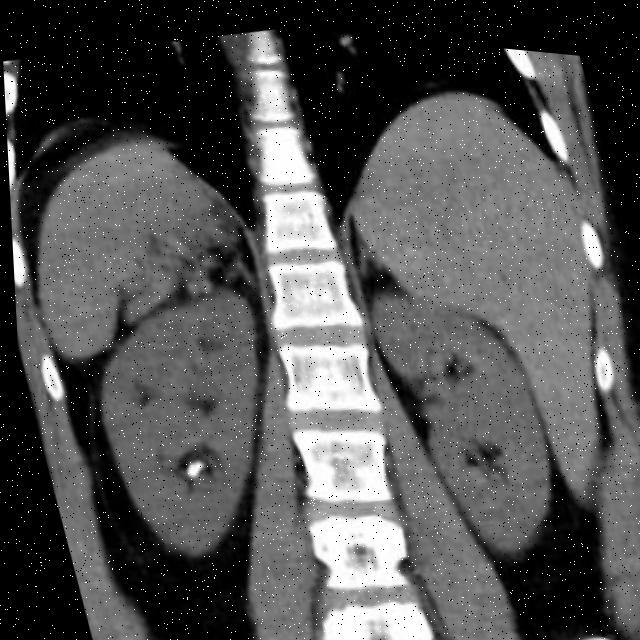Tas_Var: (176, 453, 200, 477)
